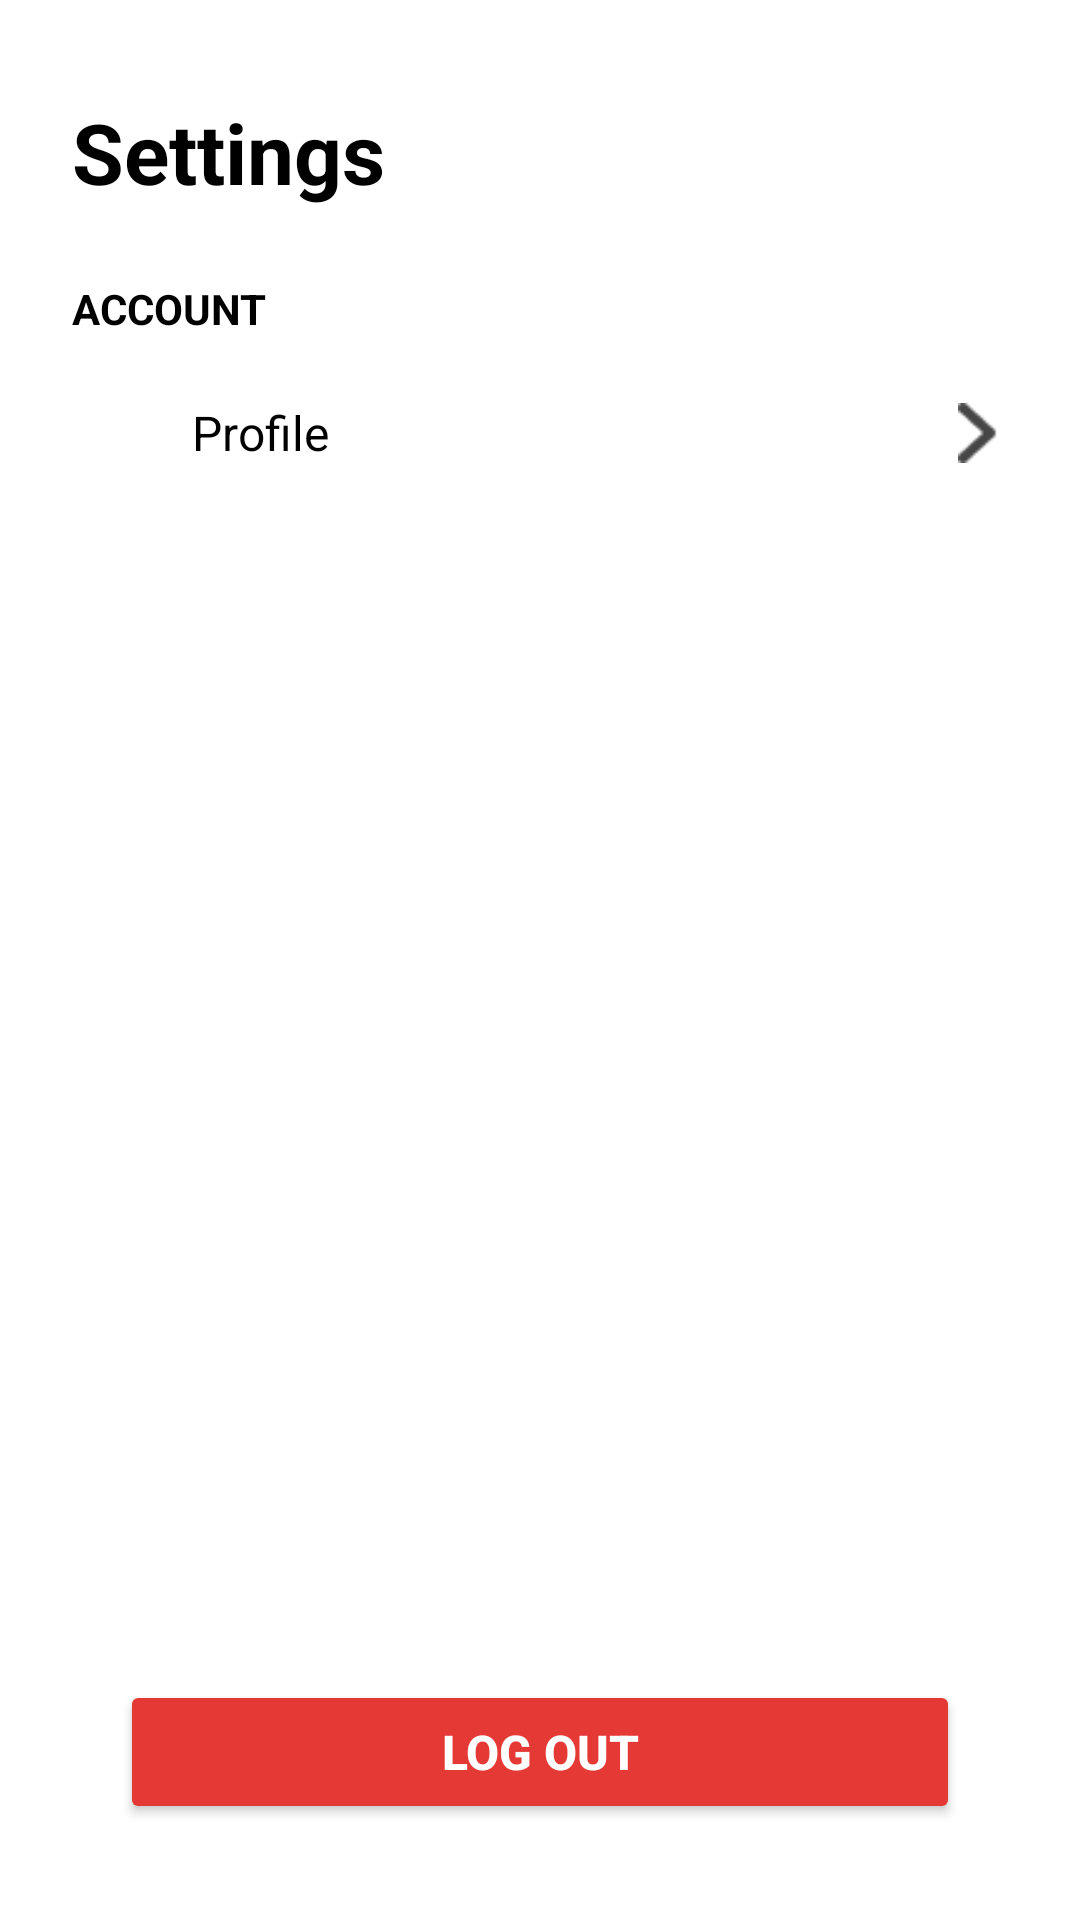

Named icons in this screenshot (1080*1920) and their bounding boxes, (x1=x1, y1=y1, x2=x2, y2=y2):
arrow right: (x1=958, y1=403, x2=996, y2=463)
